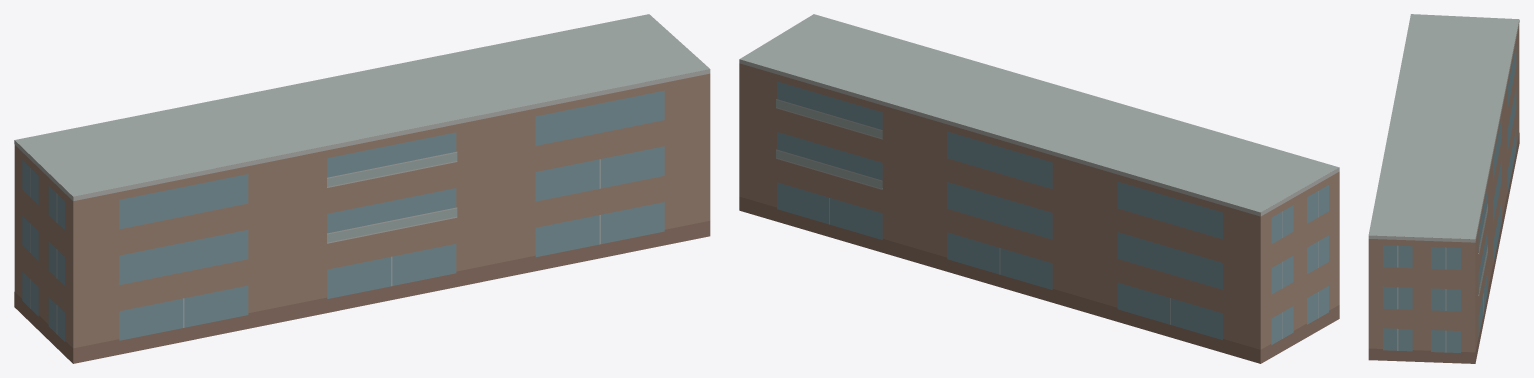
Rendered from survey-upis-32971895.glb.
3 renders of one model, left to right at view 1: azimuth 30°, elevation 25°; view 2: azimuth 150°, elevation 25°; view 3: azimuth 270°, elevation 25°, orthographic. The views are drawn at different scales.
Parts seen in each view (by area): view 1: survey-upis-32971895.tmp; view 2: survey-upis-32971895.tmp; view 3: survey-upis-32971895.tmp.
Boxes of the visible parts, <box> form: survey-upis-32971895.tmp: <box>14,14,710,363</box>; survey-upis-32971895.tmp: <box>739,14,1339,363</box>; survey-upis-32971895.tmp: <box>1368,14,1519,363</box>.
Bounding box in the file's own units: 35.49 × 9.15 × 10.06.
